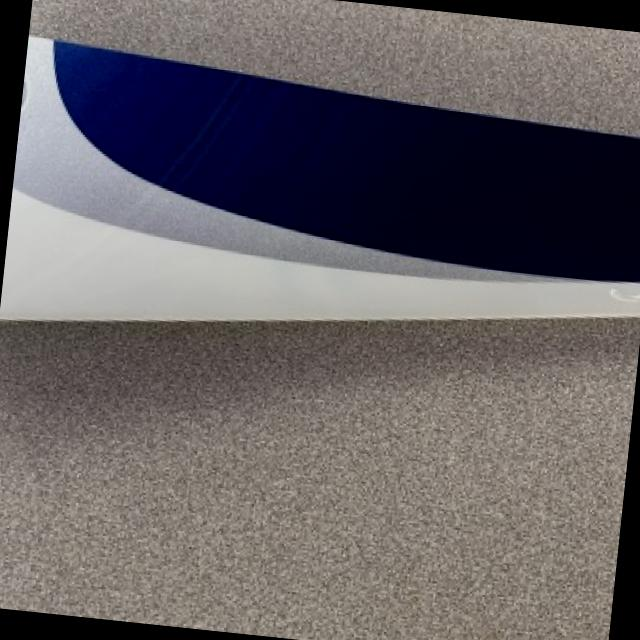healthy: (0, 36, 640, 316)
